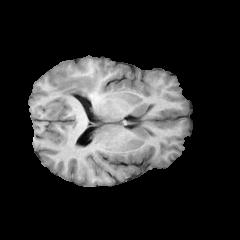glioma: (52, 74, 139, 95)
